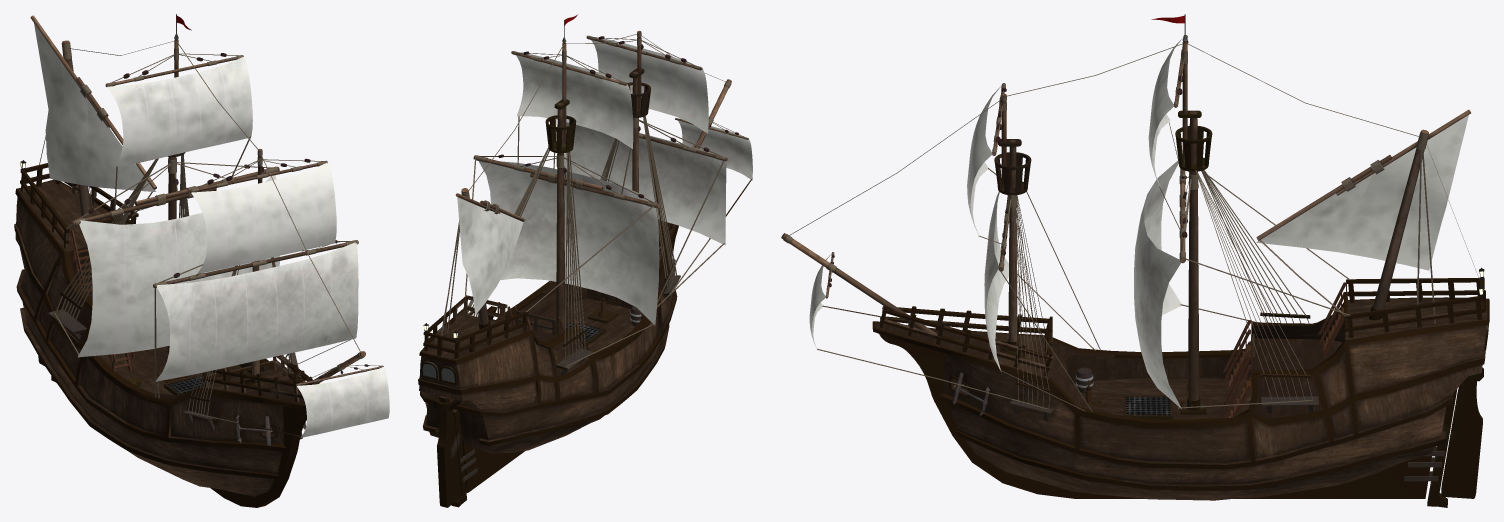
File: ship_nao.glb
3 renders of one model, left to right at view 1: azimuth 30°, elevation 25°; view 2: azimuth 150°, elevation 25°; view 3: azimuth 270°, elevation 25°, orthographic. The views are drawn at different scales.
Parts seen in each view (by area): view 1: Casco_Material Casco_0, Vela cuadra_Material_0, Vela grande_Material_0, Gavia.003_Material_0, Gavia_Material_0, VelaLatina_Material_0, Vela cebadera_Material_0, Valla proa_Material_0, Valla popa_Material_0, Cylinder.007_Material_0, Cube.154_Material_0, Cylinder.006_Material_0 (+9 smaller); view 2: Casco_Material Casco_0, Vela grande.001_Material_0, Vela cuadra.001_Material_0, Gavia.002_Material_0, Gavia.001_Material_0, VelaLatina_Material_0, Valla popa_Material_0, Cube.133_Material_0, Vela cebadera.001_Material_0, Palo mayor_Material_0, CofaDetras_Material_0, Palo trinquete_Material_0 (+11 smaller); view 3: Casco_Material Casco_0, Vela Latina_Material_0, Vela grande_Material_0, Valla proa_Material_0, Valla popa_Material_0, Cube.133_Material_0, Palo mayor_Material_0, Palo de mesana_Material_0, Vela grande.001_Material_0, Palo trinquete_Material_0, Vela cuadra.001_Material_0, Cube.128_Material_0 (+8 smaller).
Boxes of the visible parts, box(x1,y1,x2,y2) form: Casco_Material Casco_0: box(14, 179, 306, 507); Vela cuadra_Material_0: box(155, 242, 358, 381); Vela grande_Material_0: box(78, 175, 279, 357); Gavia.003_Material_0: box(191, 162, 336, 273); Gavia_Material_0: box(107, 56, 252, 168); VelaLatina_Material_0: box(34, 23, 155, 191); Vela cebadera_Material_0: box(297, 366, 389, 437); Valla proa_Material_0: box(201, 355, 319, 401); Valla popa_Material_0: box(20, 163, 138, 248); Cylinder.007_Material_0: box(153, 240, 358, 288); Cube.154_Material_0: box(39, 41, 360, 351); Cylinder.006_Material_0: box(71, 187, 216, 225); Casco_Material Casco_0: box(418, 219, 678, 492); Vela grande.001_Material_0: box(478, 161, 659, 325); Vela cuadra.001_Material_0: box(564, 122, 726, 245); Gavia.002_Material_0: box(516, 52, 633, 148); Gavia.001_Material_0: box(591, 37, 708, 133); VelaLatina_Material_0: box(457, 197, 523, 314); Valla popa_Material_0: box(423, 295, 528, 358); Cube.133_Material_0: box(437, 396, 461, 507); Vela cebadera.001_Material_0: box(678, 118, 752, 180); Palo mayor_Material_0: box(556, 103, 565, 334); CofaDetras_Material_0: box(545, 115, 576, 153); Palo trinquete_Material_0: box(632, 71, 638, 192); Casco_Material Casco_0: box(872, 297, 1489, 500); Vela Latina_Material_0: box(1256, 115, 1468, 270); Vela grande_Material_0: box(1134, 196, 1181, 408); Valla proa_Material_0: box(880, 306, 1052, 376); Valla popa_Material_0: box(1343, 277, 1486, 337); Cube.133_Material_0: box(1441, 381, 1482, 498); Palo mayor_Material_0: box(1187, 111, 1200, 410); Palo de mesana_Material_0: box(1369, 129, 1429, 320); Vela grande.001_Material_0: box(1144, 160, 1181, 315); Palo trinquete_Material_0: box(1007, 139, 1018, 351); Vela cuadra.001_Material_0: box(986, 198, 1008, 371); Cube.128_Material_0: box(1123, 395, 1172, 419).
Bounding box in the file's own units: 15.25 × 32.18 × 42.05.
Materials: 2 (2 with a texture image).
